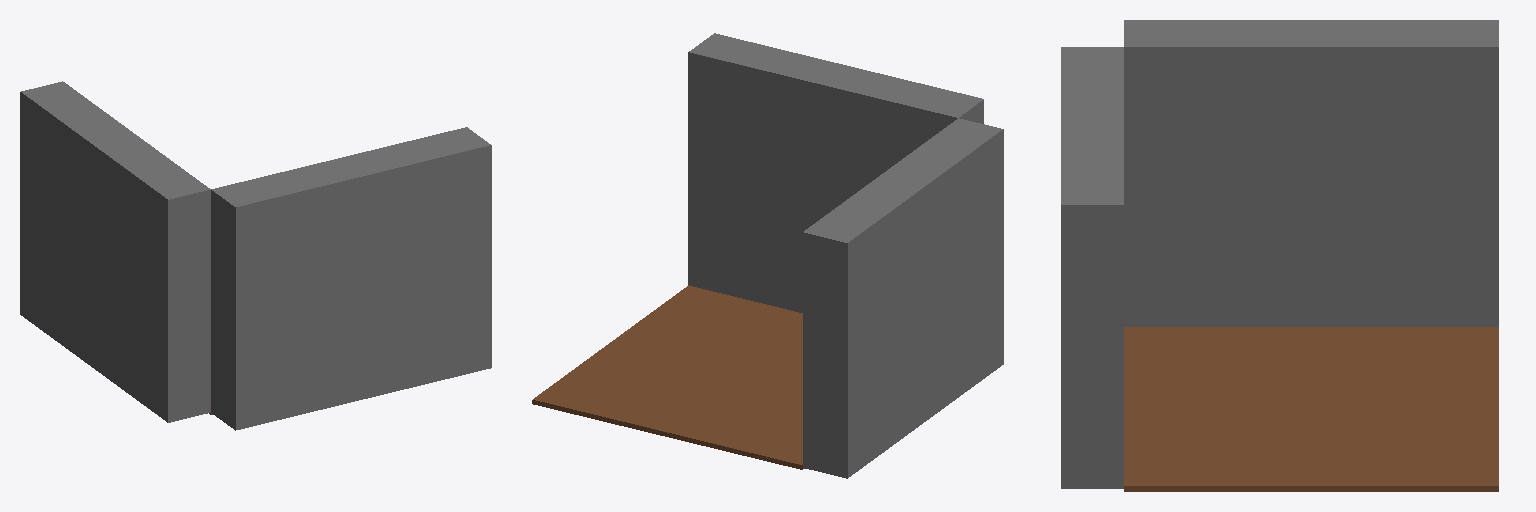
robot.urdf — table_with_walls:
<?xml version="1.0" ?>
<robot name="table_with_walls">

  <!-- Table link -->
  <link name="table_link">
    <contact>
      <lateral_friction value="1"/>
    </contact>
    <inertial>
      <origin rpy="0 0 0" xyz="0 0 0"/>
      <mass value="0.0"/>
      <inertia ixx="0" ixy="0" ixz="0" iyy="0" iyz="0" izz="0"/>
    </inertial>
    <visual>
      <origin rpy="0 0 0" xyz="0 0 0"/>
      <geometry>
        <box size="0.6 0.6 0.01"/>
      </geometry>
      <material name="wooden">
        <color rgba="0.52 0.36 0.25 1"/>
      </material>
    </visual>
    <collision>
      <origin rpy="0 0 0" xyz="0 0 0"/>
      <geometry>
        <box size="0.6 0.6 0.01"/>
      </geometry>
    </collision>
  </link>

  <!-- Right Wall link -->
  <link name="right_wall_link">
    <contact>
        <lateral_friction value="1.0"/>
        <rolling_friction value="0.0001"/>
        <inertia_scaling value="3.0"/>
        <restitution value="0.0"/> <!-- No bounce -->
    </contact>
    <inertial>
        <origin rpy="0 0 0" xyz="0 0 0"/>
        <mass value="1"/>
        <inertia ixx="1" ixy="0" ixz="0" iyy="1" iyz="0" izz="1"/>
    </inertial>
    <visual>
      <origin rpy="0 0 0" xyz="-0.6 0 0.25"/> <!-- Adjusted height --> <!-- -0.6 ensures wall is at the tip of the table--> 
      <geometry>
        <box size="0.1 0.6 0.5"/> <!-- Adjusted height --> <!-- 0.1 is for the thickness. the last 0.5 is for the height --> 
      </geometry>
      <material name="concrete">
        <color rgba="0.5 0.5 0.5 1"/>
      </material>
    </visual>
    <collision>
      <origin rpy="0 0 0" xyz="-0.6 0 0.25"/> <!-- Adjusted height -->
      <geometry>
        <box size="0.1 0.6 0.5"/> <!-- Adjusted height -->
      </geometry>
    </collision>
  </link>

  <!-- Left Wall link at 90 degrees -->
  <link name="left_wall_link">
    <contact>
        <lateral_friction value="1.0"/>
        <rolling_friction value="0.0001"/>
        <inertia_scaling value="3.0"/>
        <restitution value="0.0"/> <!-- No bounce -->
    </contact>
    <inertial>
        <origin rpy="0 0 0" xyz="0 0 0"/>
        <mass value="1"/>
        <inertia ixx="1" ixy="0" ixz="0" iyy="1" iyz="0" izz="1"/>
    </inertial>
    <visual>
      <origin rpy="0 0 0" xyz="-0.25 -0.6 0.25"/> <!-- Adjusted position and height -->
      <geometry>
        <box size="0.6 0.1 0.5"/> <!-- Adjusted size to make it perpendicular -->
      </geometry>
      <material name="concrete">
        <color rgba="0.5 0.5 0.5 1"/>
      </material>
    </visual>
    <collision>
      <origin rpy="0 0 0" xyz="-0.25 -0.6 0.25"/> <!-- Adjusted position and height -->
      <geometry>
        <box size="0.6 0.1 0.5"/> <!-- Adjusted size to make it perpendicular -->
      </geometry>
    </collision>
  </link>

  <!-- Joint connecting table and right wall -->
  <joint name="table_to_right_wall" type="fixed">
    <parent link="table_link"/>
    <child link="right_wall_link"/>
    <origin rpy="0 0 0" xyz="0.25 0 0"/>
  </joint>

  <!-- Joint connecting right wall and left wall at 90 degrees -->
  <joint name="right_wall_to_left_wall" type="fixed">
    <parent link="right_wall_link"/>
    <child link="left_wall_link"/>
    <origin rpy="0 0 0" xyz="0 0.25 0"/> <!-- Adjusted position to make it adjacent and perpendicular -->
  </joint>

</robot>

--- Render facts (derived) ---
3 views of the same robot in one strip: view 1: azimuth 30°, elevation 25°; view 2: azimuth 150°, elevation 25°; view 3: azimuth 270°, elevation 25° (orthographic).
Robot: table_with_walls — 3 links, 2 joints (2 fixed); root link table_link; default pose: all joints at 0.
Links seen in each view (by area): view 1: left_wall_link, right_wall_link; view 2: right_wall_link, left_wall_link, table_link; view 3: right_wall_link, table_link, left_wall_link.
Boxes of the visible links, x1,y1,x2,y2 form: left_wall_link: [211, 127, 491, 430]; right_wall_link: [20, 81, 210, 422]; right_wall_link: [803, 118, 1003, 478]; left_wall_link: [688, 33, 983, 312]; table_link: [532, 285, 804, 469]; right_wall_link: [1124, 20, 1498, 326]; table_link: [1124, 327, 1498, 491]; left_wall_link: [1061, 47, 1123, 488].
Size in the robot's own frame: 0.7 by 0.7 by 0.505 metres.
Geometry: primitives only (box / cylinder / sphere), no mesh files.